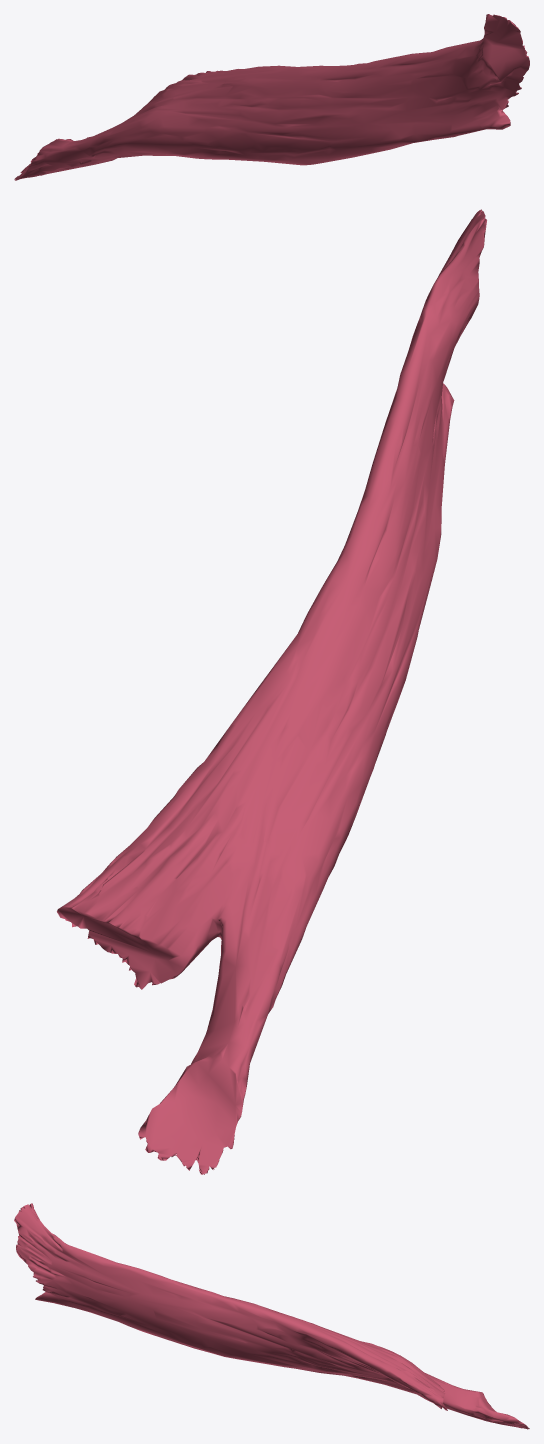
3 views of the same model, one above another, from view 1: azimuth 30°, elevation 25°; view 2: azimuth 150°, elevation 25°; view 3: azimuth 270°, elevation 25° (orthographic). The views are drawn at different scales.
Visible parts, largest first — view 1: 左侧胸锁乳突肌; view 2: 左侧胸锁乳突肌; view 3: 左侧胸锁乳突肌.
Boxes of the visible parts, bbox=[...] form: 左侧胸锁乳突肌: bbox=[14, 14, 529, 180]; 左侧胸锁乳突肌: bbox=[57, 209, 486, 1174]; 左侧胸锁乳突肌: bbox=[14, 1203, 529, 1429].
Bounding box in the file's own units: 0.0851 × 0.1675 × 0.2854.
